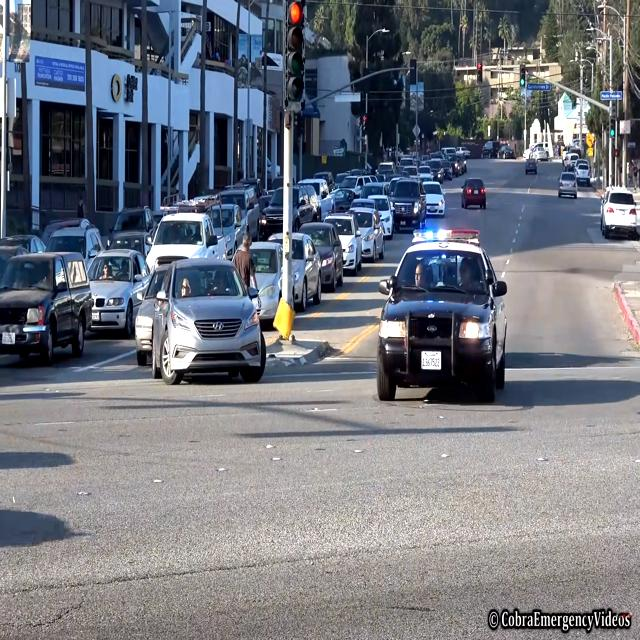emergency-vehicles: (366, 221, 518, 403)
